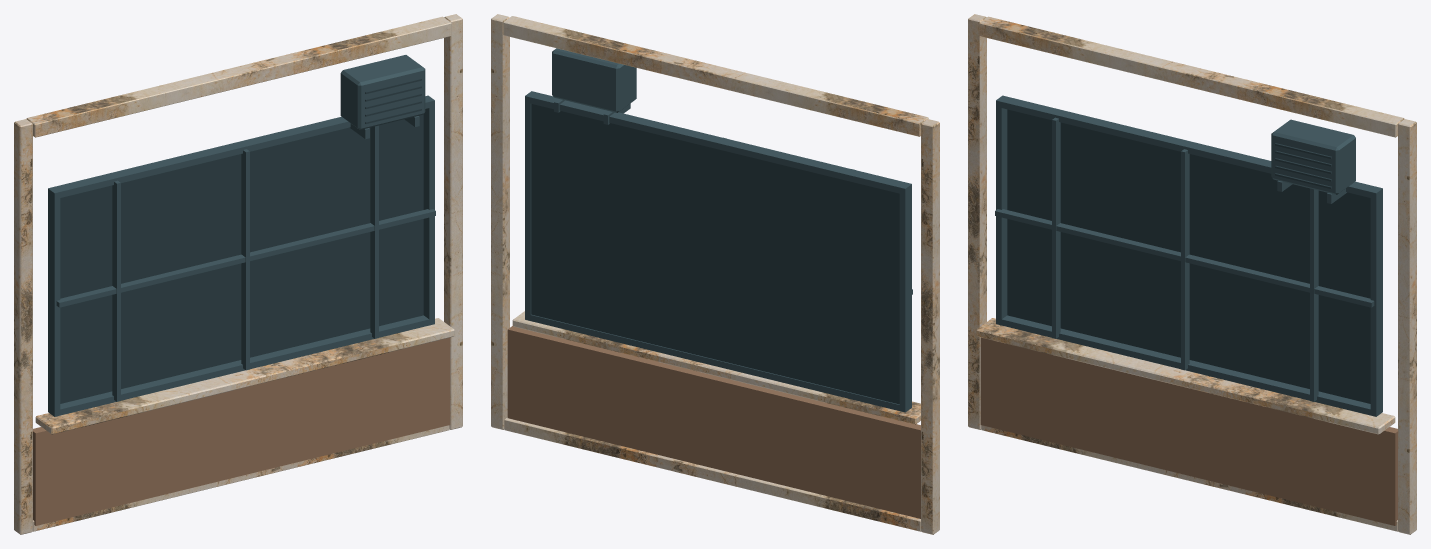
File: facade_workshop_upper.glb
3 renders of one model, left to right at view 1: azimuth 30°, elevation 25°; view 2: azimuth 150°, elevation 25°; view 3: azimuth 330°, elevation 25°, orthographic.
Parts seen in each view (by area): view 1: facade_workshop_upper__VVK_dark_glass, facade_workshop_upper__VVK_masonry, facade_workshop_upper__VVK_concrete_CC0, facade_workshop_upper__VVK_painted_steel; view 2: facade_workshop_upper__VVK_dark_glass, facade_workshop_upper__VVK_masonry, facade_workshop_upper__VVK_concrete_CC0, facade_workshop_upper__VVK_painted_steel; view 3: facade_workshop_upper__VVK_dark_glass, facade_workshop_upper__VVK_masonry, facade_workshop_upper__VVK_concrete_CC0, facade_workshop_upper__VVK_painted_steel.
Boxes of the visible parts, x1=… form: facade_workshop_upper__VVK_dark_glass: x1=60, y1=78, x2=423, y2=403; facade_workshop_upper__VVK_masonry: x1=33, y1=337, x2=450, y2=525; facade_workshop_upper__VVK_concrete_CC0: x1=14, y1=14, x2=462, y2=534; facade_workshop_upper__VVK_painted_steel: x1=48, y1=55, x2=435, y2=416; facade_workshop_upper__VVK_dark_glass: x1=531, y1=104, x2=899, y2=404; facade_workshop_upper__VVK_masonry: x1=507, y1=326, x2=920, y2=518; facade_workshop_upper__VVK_concrete_CC0: x1=491, y1=14, x2=939, y2=534; facade_workshop_upper__VVK_painted_steel: x1=525, y1=48, x2=912, y2=412; facade_workshop_upper__VVK_dark_glass: x1=1007, y1=109, x2=1370, y2=403; facade_workshop_upper__VVK_masonry: x1=980, y1=337, x2=1397, y2=525; facade_workshop_upper__VVK_concrete_CC0: x1=968, y1=14, x2=1416, y2=534; facade_workshop_upper__VVK_painted_steel: x1=995, y1=95, x2=1382, y2=416.
Bounding box in the file's own units: 3.4 × 3 × 0.351.
4 materials, 1 textured.
